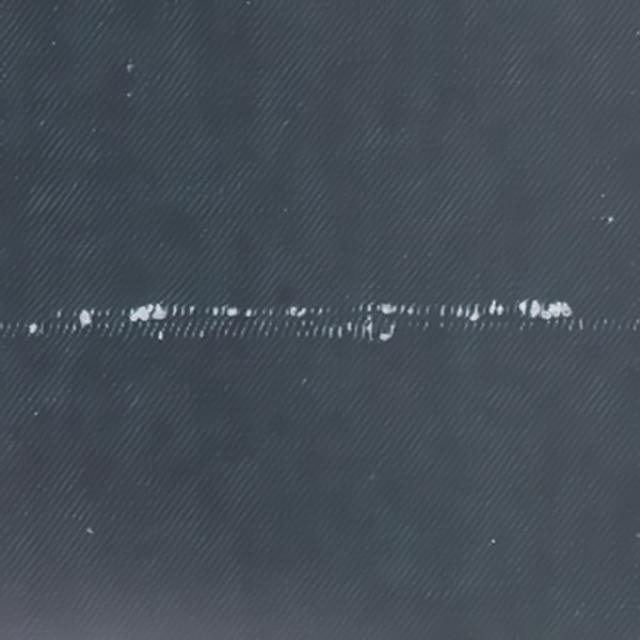Thread_other: (11, 246, 640, 466)
